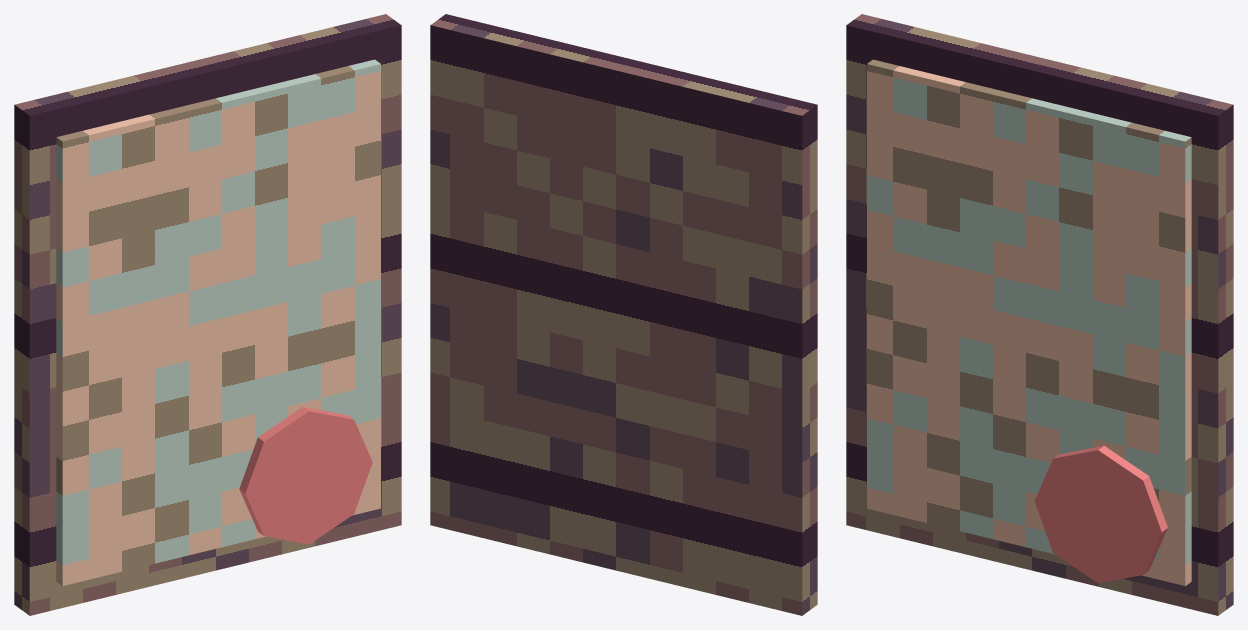
Rendered from trofeu_cartaz_caranguejo_rei_pinca_de_ouro.glb.
3 views of the same model, side by side, from view 1: azimuth 30°, elevation 25°; view 2: azimuth 150°, elevation 25°; view 3: azimuth 330°, elevation 25° (orthographic).
Visible parts, largest first — view 1: trofeu_cartaz_caranguejo_rei_pinca_de_ouro; view 2: trofeu_cartaz_caranguejo_rei_pinca_de_ouro; view 3: trofeu_cartaz_caranguejo_rei_pinca_de_ouro.
Boxes of the visible parts, x1,y1,x2,y2 form: trofeu_cartaz_caranguejo_rei_pinca_de_ouro: (14,14,401,615); trofeu_cartaz_caranguejo_rei_pinca_de_ouro: (430,14,817,615); trofeu_cartaz_caranguejo_rei_pinca_de_ouro: (846,14,1233,615).
Bounding box in the file's own units: 0.7 × 0.9 × 0.095.
3 materials, 2 textured.
